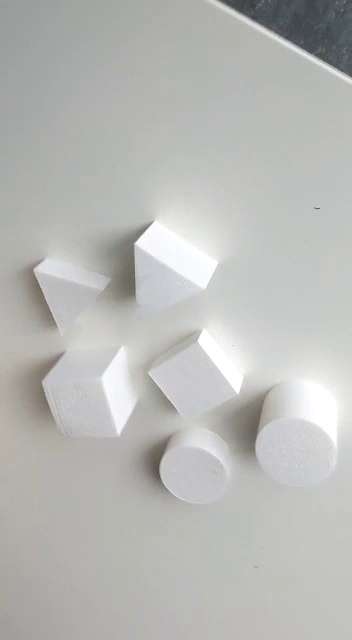Clyinder_short: (157, 424, 234, 509)
Cube: (39, 345, 140, 448)
Cube_short: (144, 323, 247, 423)
Cylinder: (253, 375, 342, 493)
Triangle: (132, 219, 221, 317)
Triangle_short: (32, 258, 111, 335)
